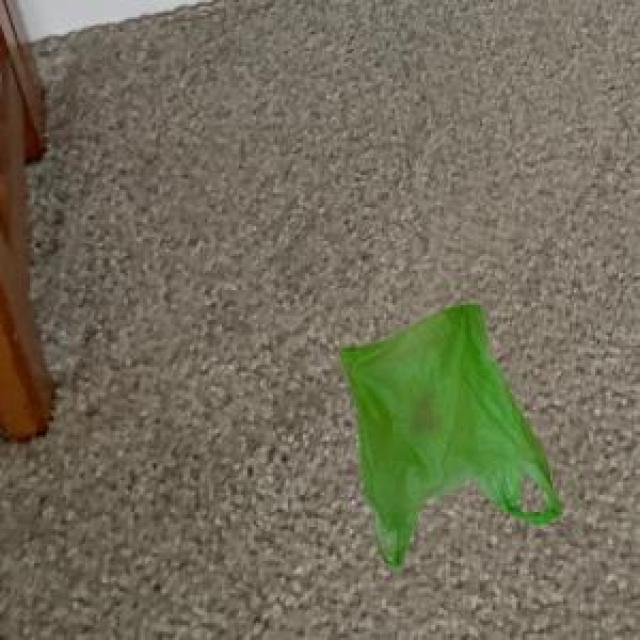waste: (341, 304, 562, 569)
